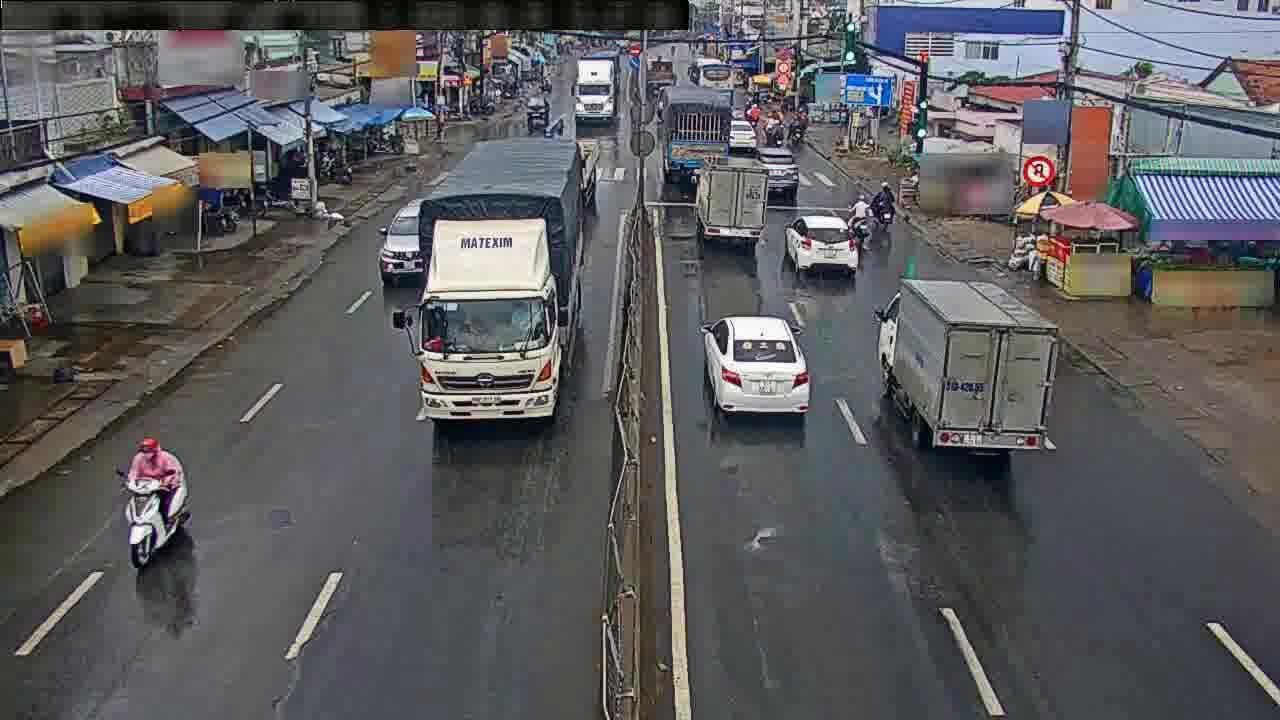car: (694, 312, 816, 416), (372, 191, 433, 274), (783, 210, 860, 273), (753, 138, 801, 194), (522, 95, 549, 122)
container: (417, 133, 577, 425), (880, 273, 1059, 462), (688, 157, 771, 245), (659, 81, 729, 176), (570, 53, 616, 127)
motorbike: (116, 439, 199, 567), (873, 179, 898, 232), (848, 196, 871, 242)
